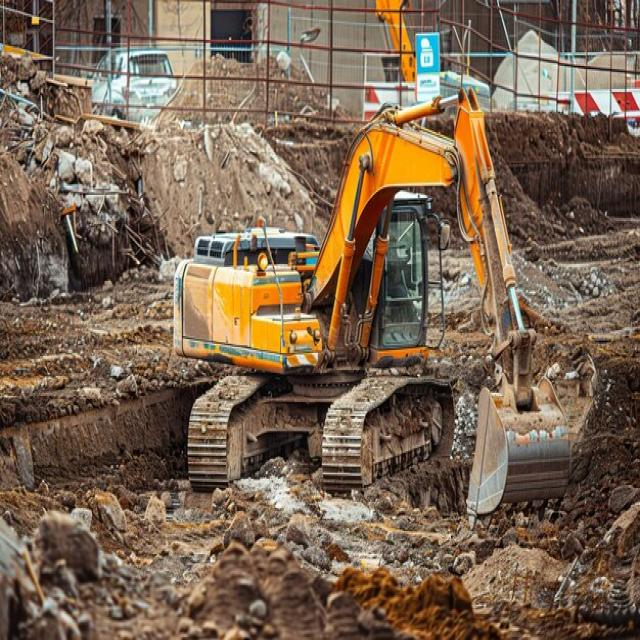Site Excavation: (46, 128, 344, 626), (430, 473, 640, 640)
